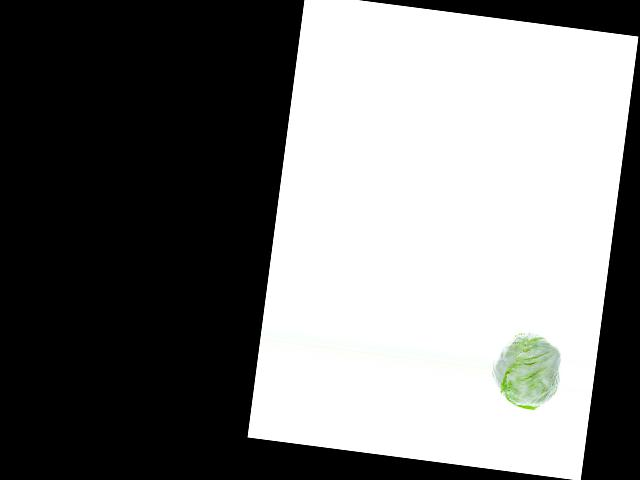lettuce: (489, 329, 561, 410)
